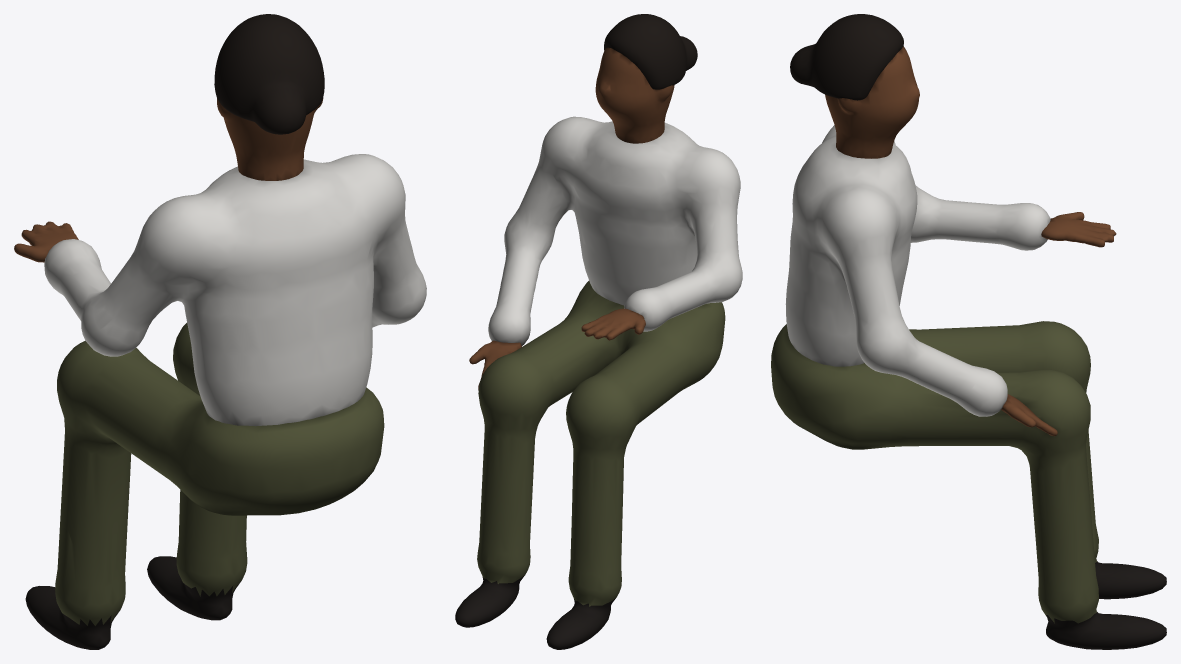
Rendered from avatar-c.glb.
3 renders of one model, left to right at view 1: azimuth 30°, elevation 25°; view 2: azimuth 150°, elevation 25°; view 3: azimuth 270°, elevation 25°, orthographic. The views are drawn at different scales.
Parts seen in each view (by area): view 1: Shirt, Trousers, Hair, Skin; view 2: Trousers, Shirt, Skin, Hair; view 3: Trousers, Shirt, Skin, Hair.
Boxes of the visible parts, x1,y1,x2,y2 form: Shirt: [44, 154, 426, 426]; Trousers: [25, 323, 384, 649]; Hair: [214, 14, 324, 134]; Skin: [14, 98, 323, 262]; Trousers: [455, 281, 725, 649]; Shirt: [488, 116, 742, 345]; Skin: [469, 47, 674, 390]; Hair: [604, 14, 697, 89]; Trousers: [771, 321, 1166, 649]; Shirt: [785, 125, 1050, 416]; Skin: [825, 46, 1116, 436]; Hair: [790, 14, 903, 100].
Bounding box in the file's own units: 0.635 × 1.33 × 0.7922.
